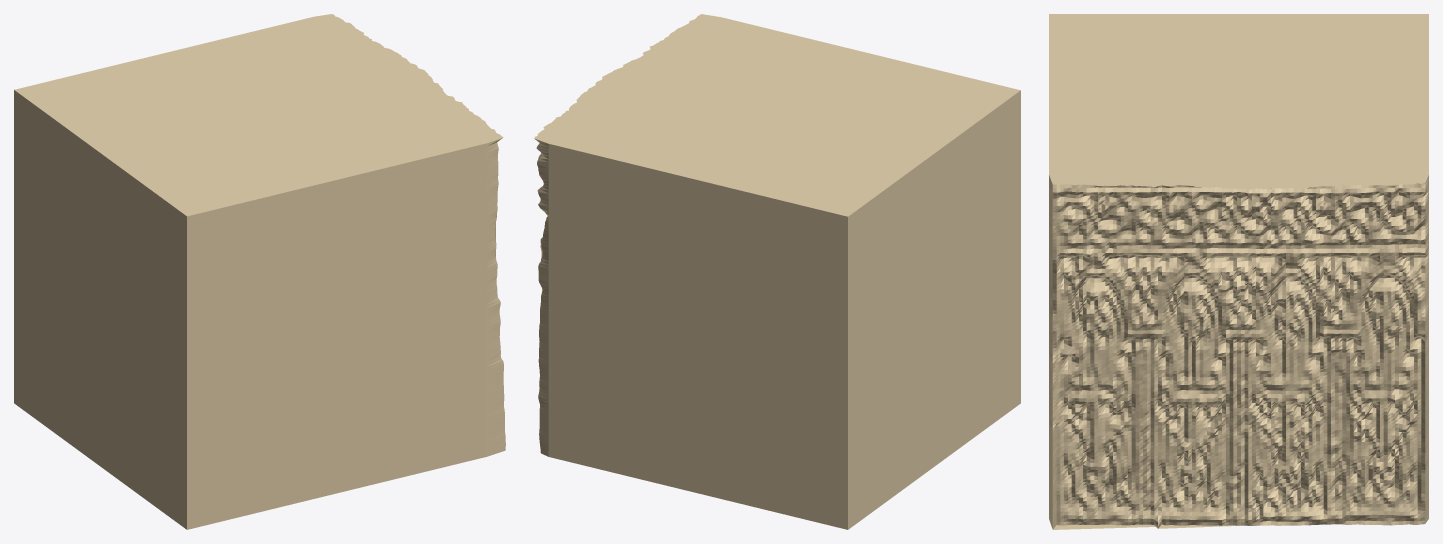
The model's file is top3.png.obj.
3 views of the same model, side by side, from view 1: azimuth 30°, elevation 25°; view 2: azimuth 150°, elevation 25°; view 3: azimuth 270°, elevation 25° (orthographic). The views are drawn at different scales.
Parts seen in each view (by area): view 1: Cube; view 2: Cube; view 3: Cube.
Boxes of the visible parts, x1,y1,x2,y2 form: Cube: [14, 14, 505, 529]; Cube: [534, 14, 1020, 529]; Cube: [1049, 14, 1428, 529].
Bounding box in the file's own units: 1.09 × 1 × 1.
